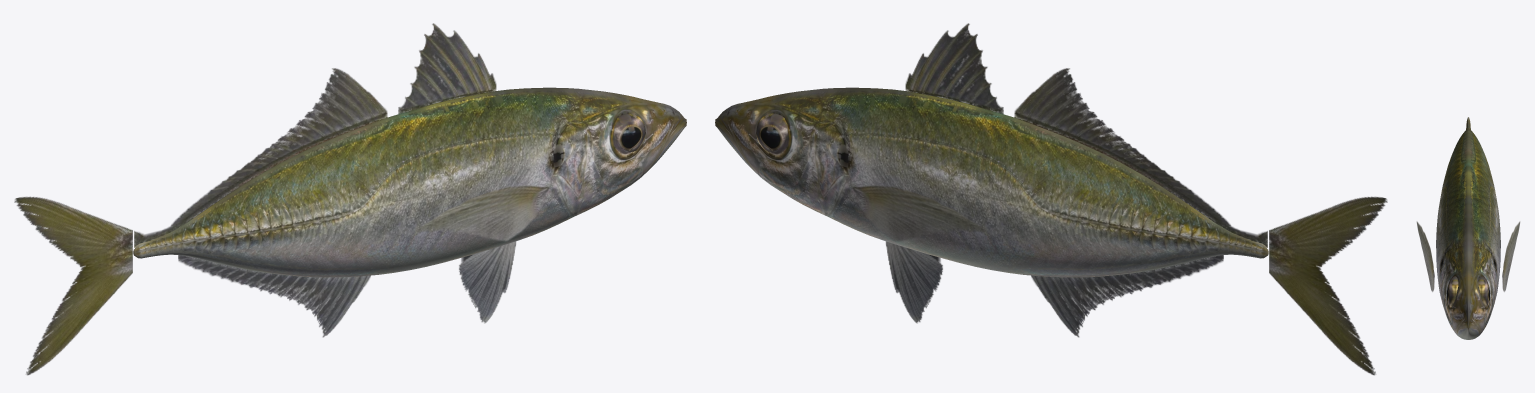
File: aji.glb
The picture shows the model from 3 angles, left to right: view 1: azimuth 30°, elevation 25°; view 2: azimuth 150°, elevation 25°; view 3: azimuth 270°, elevation 25°; orthographic projection. The views are drawn at different scales.
Visible parts, largest first — view 1: aji; view 2: aji; view 3: aji.
Boxes of the visible parts, x1,y1,x2,y2 form: aji: (14, 23, 686, 375); aji: (715, 23, 1387, 375); aji: (1416, 117, 1520, 339).
Size of the model in its own units: 0.2504 by 0.1112 by 0.0448.
1 material, 1 textured.
